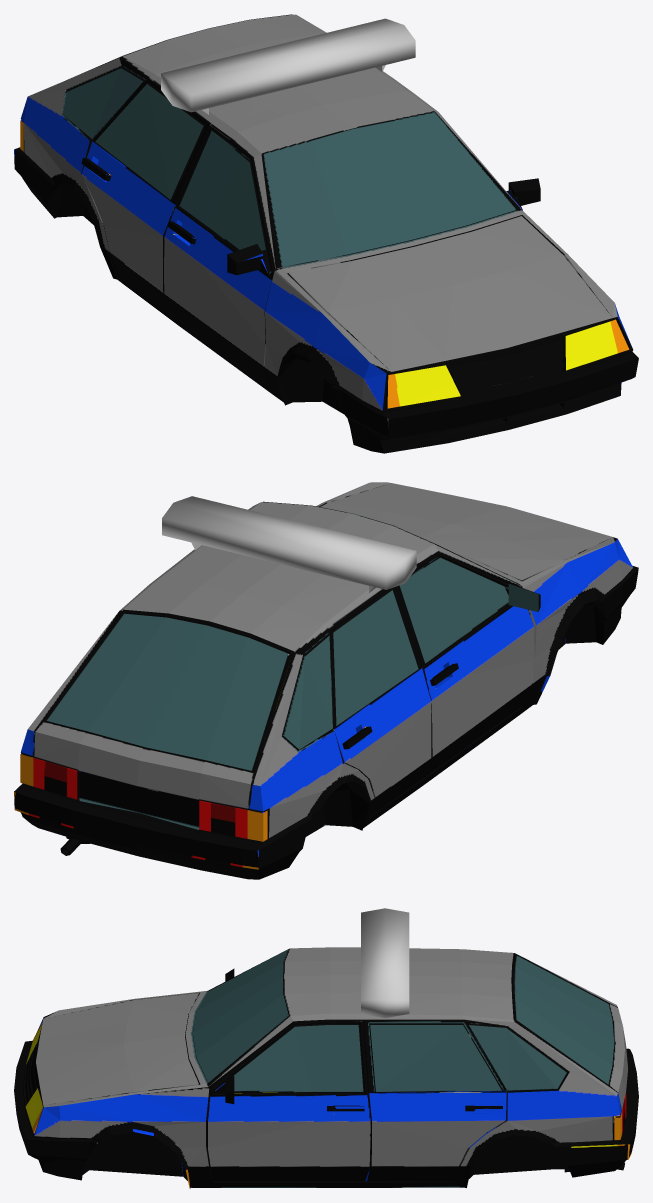
The model's file is vaz09_flash.fbx.
3 renders of one model, top to bottom at view 1: azimuth 30°, elevation 25°; view 2: azimuth 150°, elevation 25°; view 3: azimuth 270°, elevation 25°, orthographic. The views are drawn at different scales.
Visible parts, largest first — view 1: 09.body, Interceptor; view 2: 09.body, Interceptor; view 3: 09.body, Interceptor.
Boxes of the visible parts, x1,y1,x2,y2 form: 09.body: [14, 14, 638, 453]; Interceptor: [161, 18, 415, 114]; 09.body: [14, 482, 638, 879]; Interceptor: [162, 496, 416, 592]; 09.body: [14, 947, 638, 1188]; Interceptor: [361, 908, 409, 1017].
Bounding box in the file's own units: 189 × 136 × 411.
